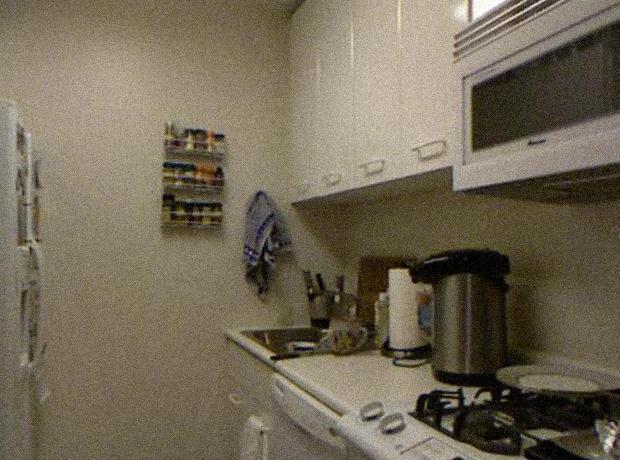Electrodomestico: (0, 124, 44, 460)
Lavaplatos: (229, 284, 382, 375)
